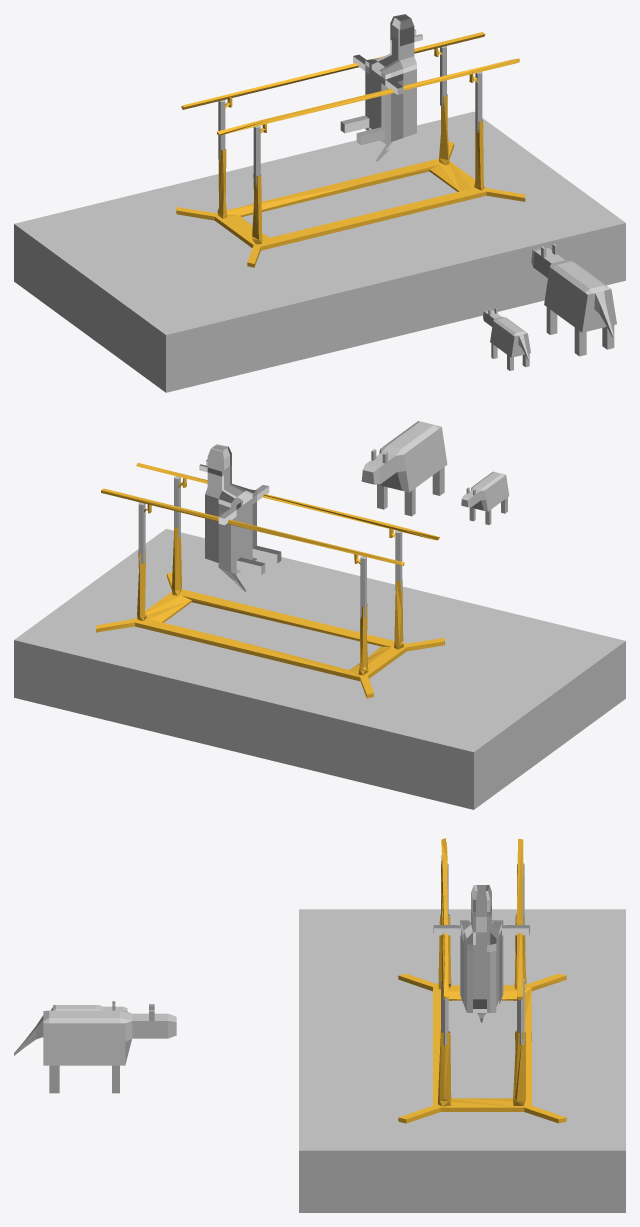
File: doggoWorld.fbx
3 renders of one model, top to bottom at view 1: azimuth 30°, elevation 25°; view 2: azimuth 150°, elevation 25°; view 3: azimuth 270°, elevation 25°, orthographic. The views are drawn at different scales.
Parts seen in each view (by area): view 1: Cube_15, 15569_Parallel_Bars, Cube_2, Cube, Cube_1; view 2: Cube_15, 15569_Parallel_Bars, Cube_2, Cube, Cube_1; view 3: Cube_15, 15569_Parallel_Bars, Cube, Cube_2.
Boxes of the visible parts, box(x1,y1,x2,y2) form: Cube_15: box(14, 111, 625, 392); 15569_Parallel_Bars: box(176, 32, 525, 267); Cube_2: box(340, 14, 422, 161); Cube: box(531, 243, 616, 356); Cube_1: box(483, 307, 530, 370); Cube_15: box(14, 529, 625, 809); 15569_Parallel_Bars: box(96, 463, 444, 698); Cube_2: box(199, 444, 281, 591); Cube: box(361, 421, 447, 516); Cube_1: box(461, 471, 509, 525); Cube_15: box(299, 909, 625, 1212); 15569_Parallel_Bars: box(398, 838, 566, 1123); Cube: box(14, 1004, 176, 1093); Cube_2: box(433, 885, 529, 1022).
Size of the model in its own units: 32.65 by 15.91 by 34.99.
